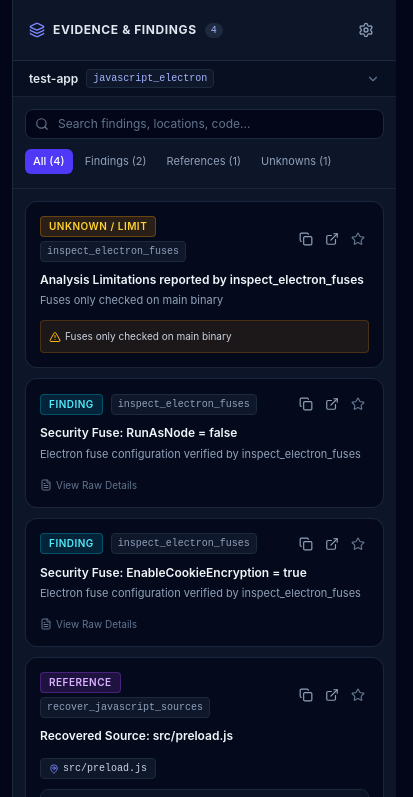
EvidencePane Component › renders code snippet with line numbers and allows pinning an item
The image size is (413, 797).
Click the button named "Pin" in the row of "Unknown / Limit" at coordinates (358, 239), box x1=347 y1=228 x2=369 y2=250
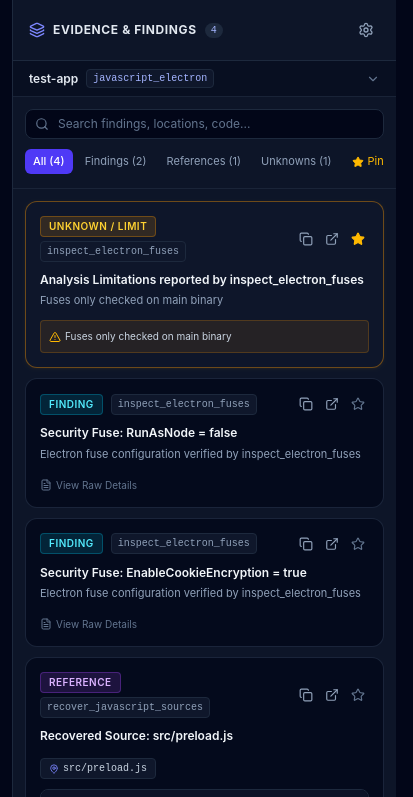
Now the button named "Unpin" is shown, box x1=347 y1=228 x2=369 y2=250
